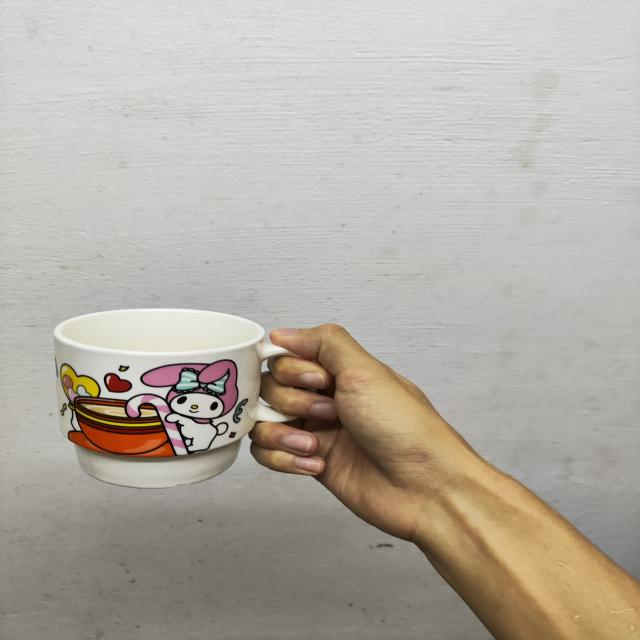cup: (38, 291, 310, 498)
